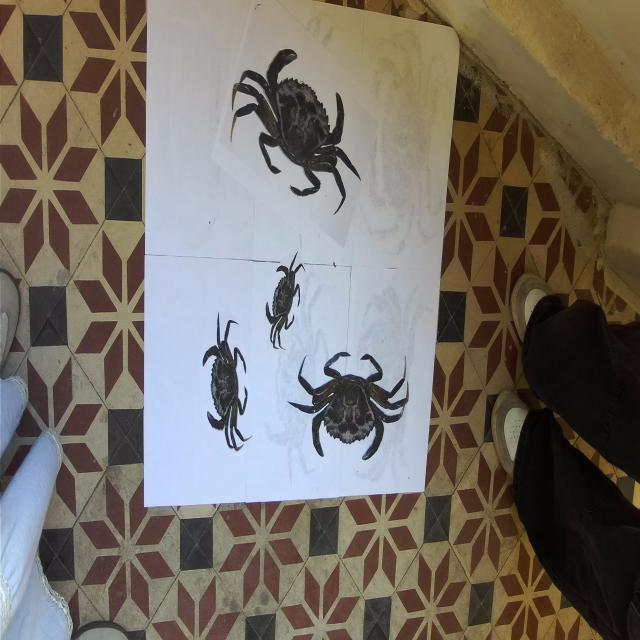European_Green_Crab: (221, 16, 377, 237), (286, 349, 409, 463), (198, 305, 254, 459), (258, 239, 312, 358)
